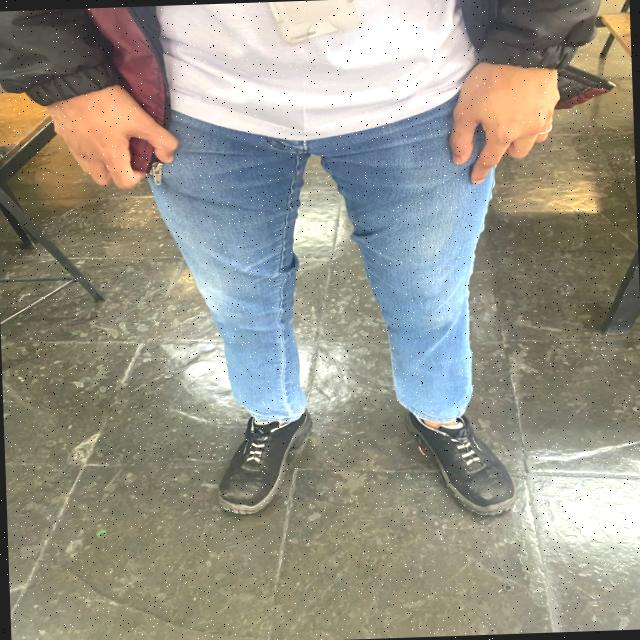BOTA: (391, 398, 530, 520), (210, 399, 315, 520)
SEM LUVA: (433, 46, 568, 187), (38, 77, 178, 198)
